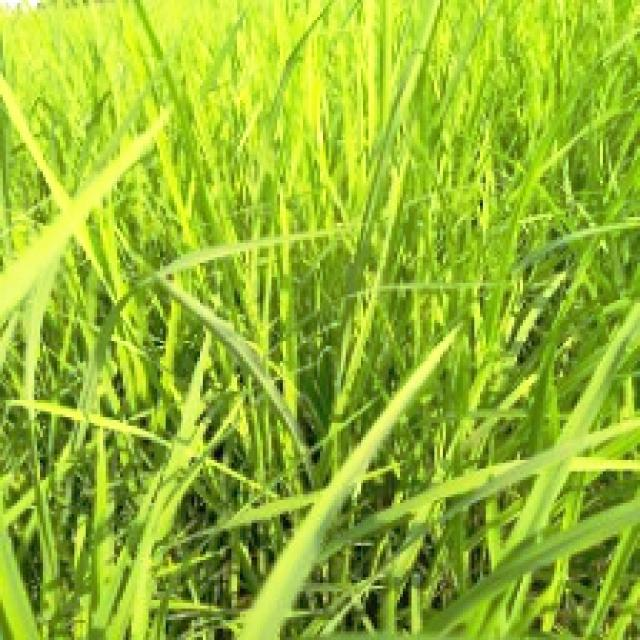health: (472, 327, 640, 639)
